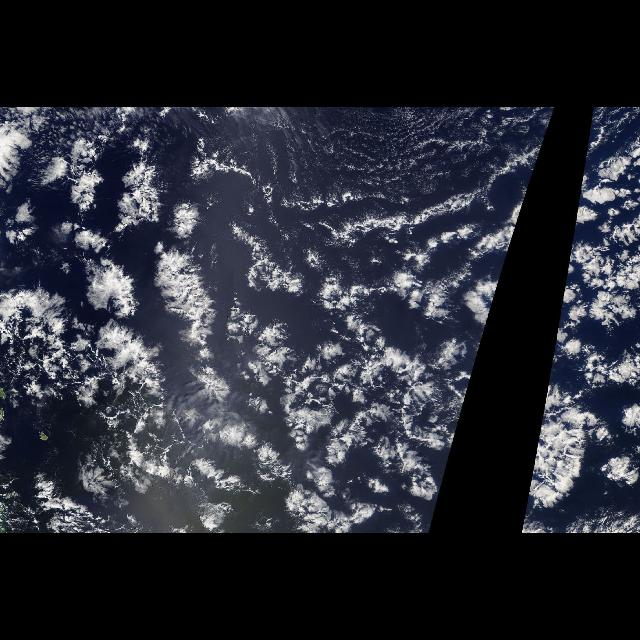Fish: (0, 170, 270, 490)
Flower: (18, 120, 552, 520), (522, 120, 640, 520)
